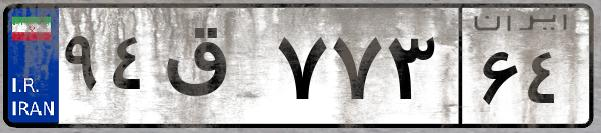3: (385, 28, 445, 110)
4: (525, 38, 570, 115), (110, 28, 158, 98)
6: (475, 38, 525, 113)
7: (270, 28, 330, 110), (330, 28, 385, 110)
9: (57, 26, 110, 100)
ق: (158, 20, 270, 120)
